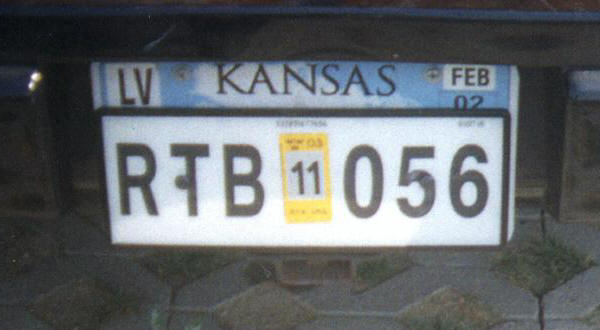license_plate: (100, 110, 507, 253)
